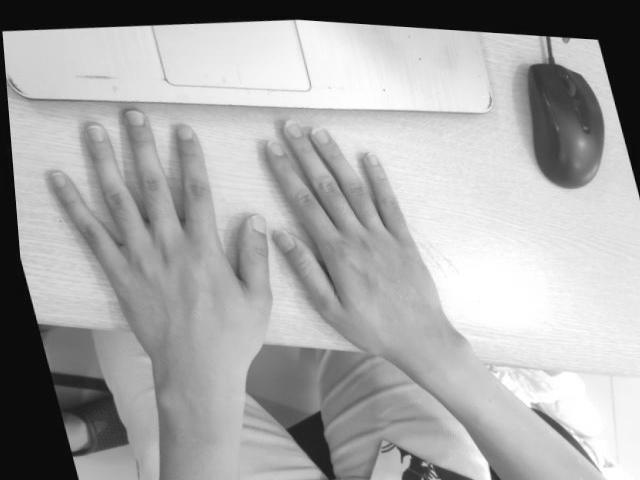not-gloved: (52, 108, 270, 348), (273, 120, 440, 332)
